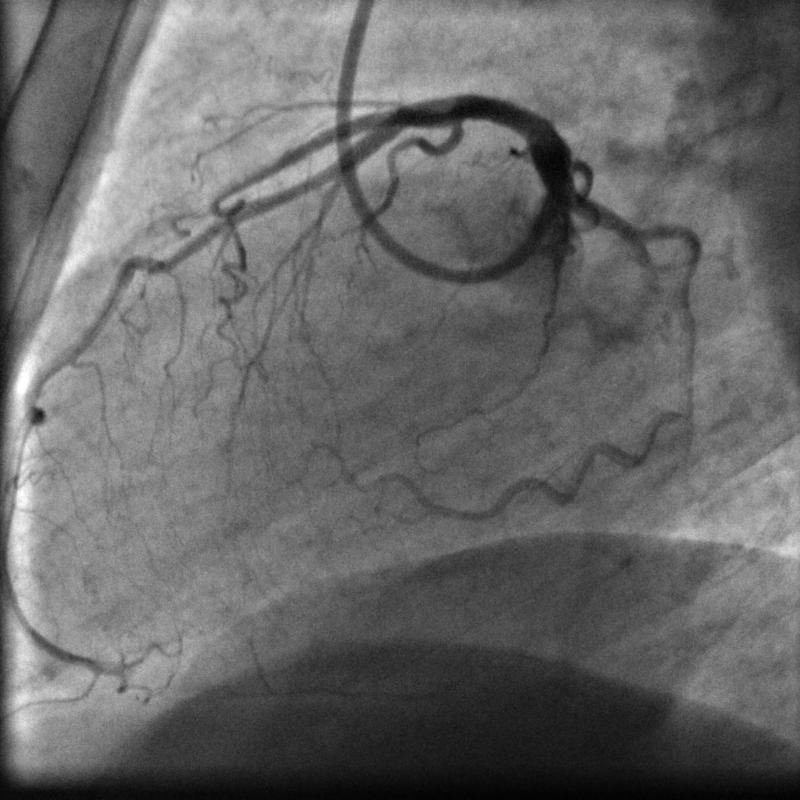Stenosis: (425, 96, 468, 139)
